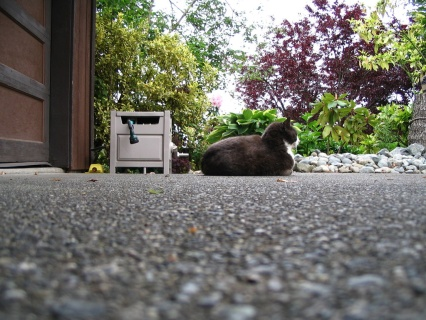Cat: (200, 110, 303, 180)
